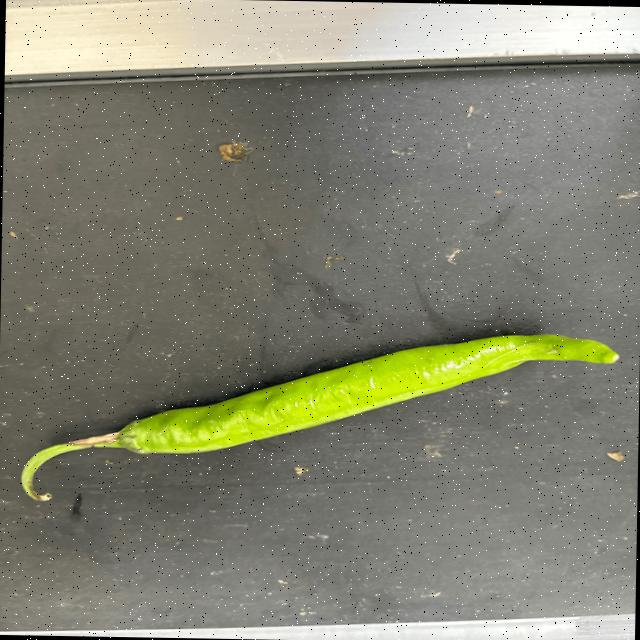chili: (118, 331, 622, 457)
